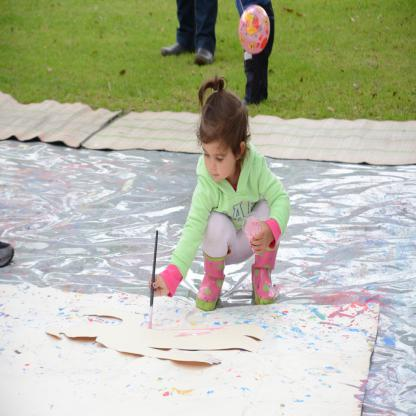Ball: (238, 4, 270, 54)
